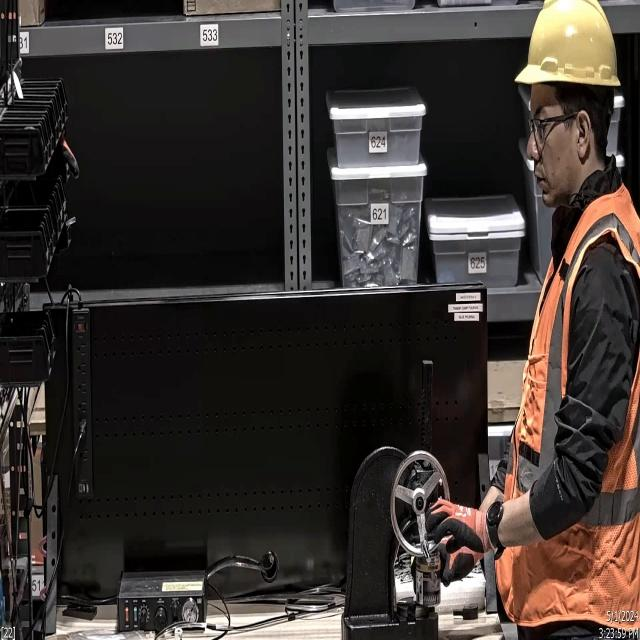construction-gloves: (426, 502, 496, 556)
